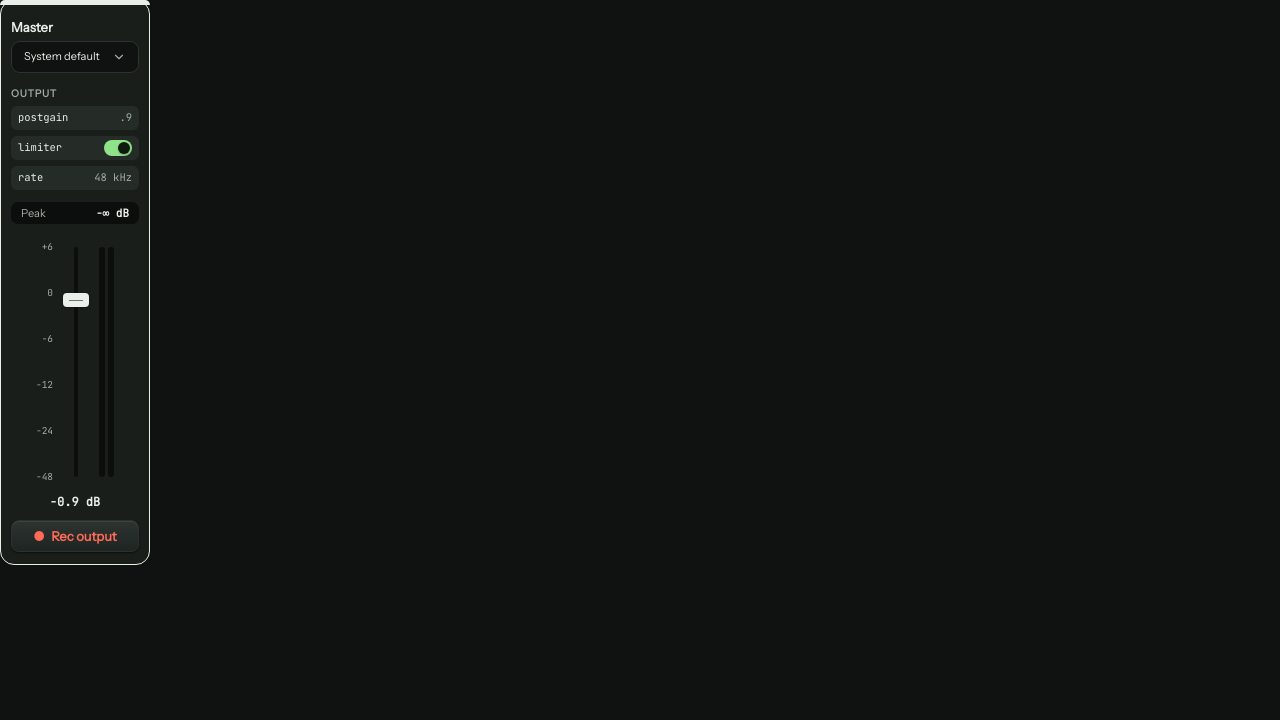
ChannelStrip › should show an error toast when the recording can't be written
What coordinates should you click on to do the following:
click the button with aria-label "Rec output, record the master output to a file"
I would click on:
 (75, 536)
Its box is [11,520,139,552].
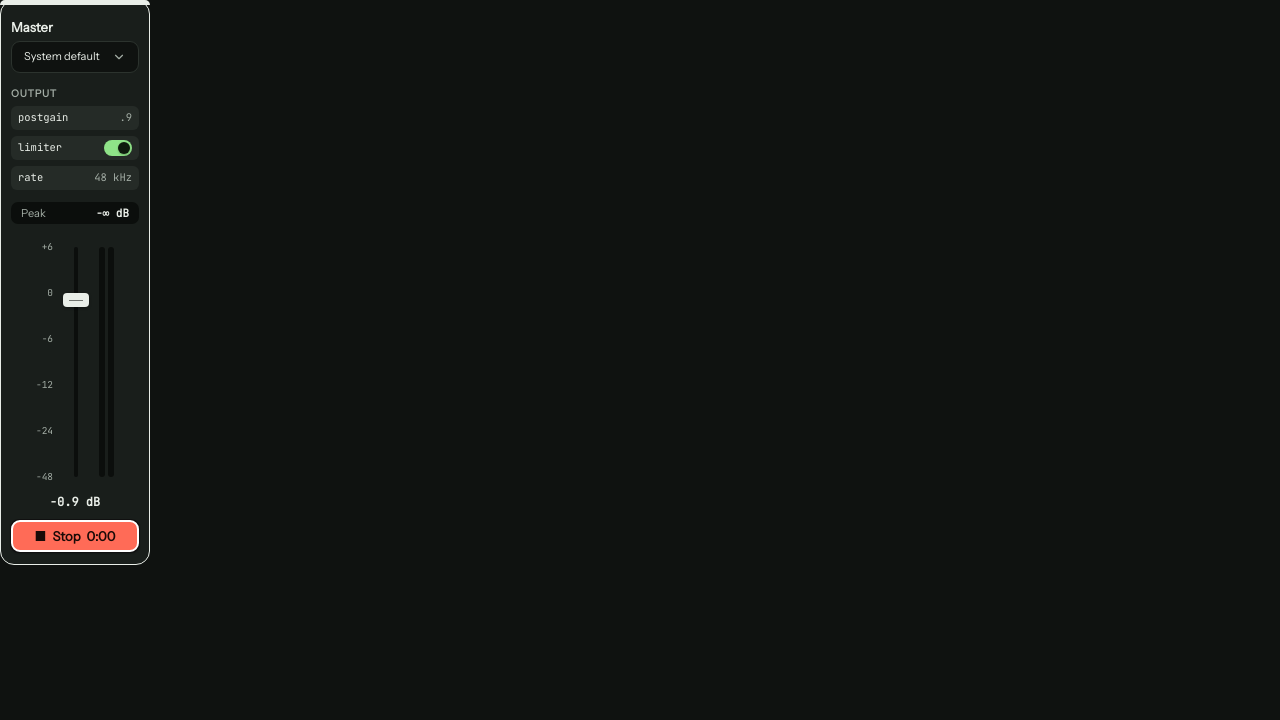
What coordinates should you click on to do the following:
click the button with aria-label "Stop, stop recording the master output"
I would click on:
 (75, 536)
Its box is [11,520,139,552].
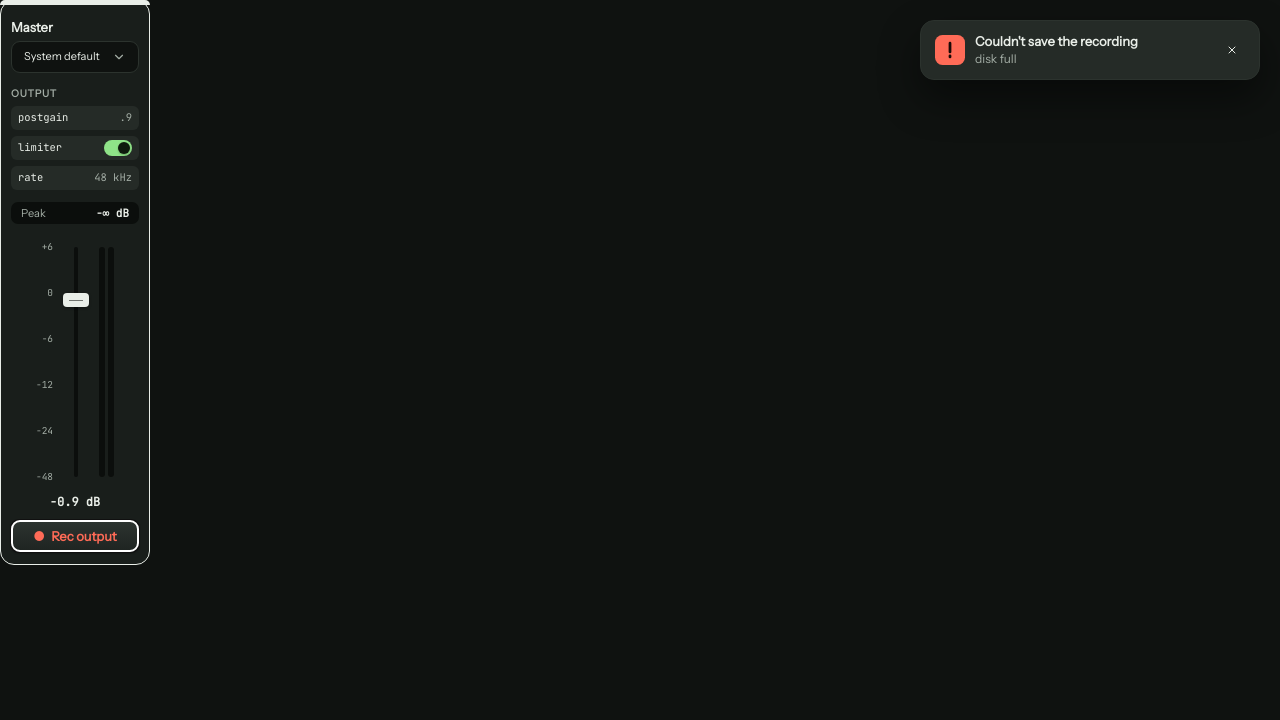
Result: the message shows "Couldn't save the recording" at [975,33,1138,49]
Result: the message shows "disk full" at [975,50,1017,66]
